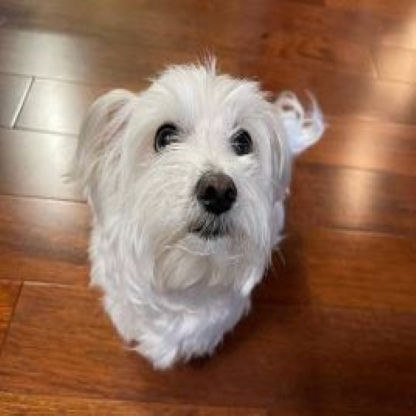maltese: (67, 54, 332, 365)
